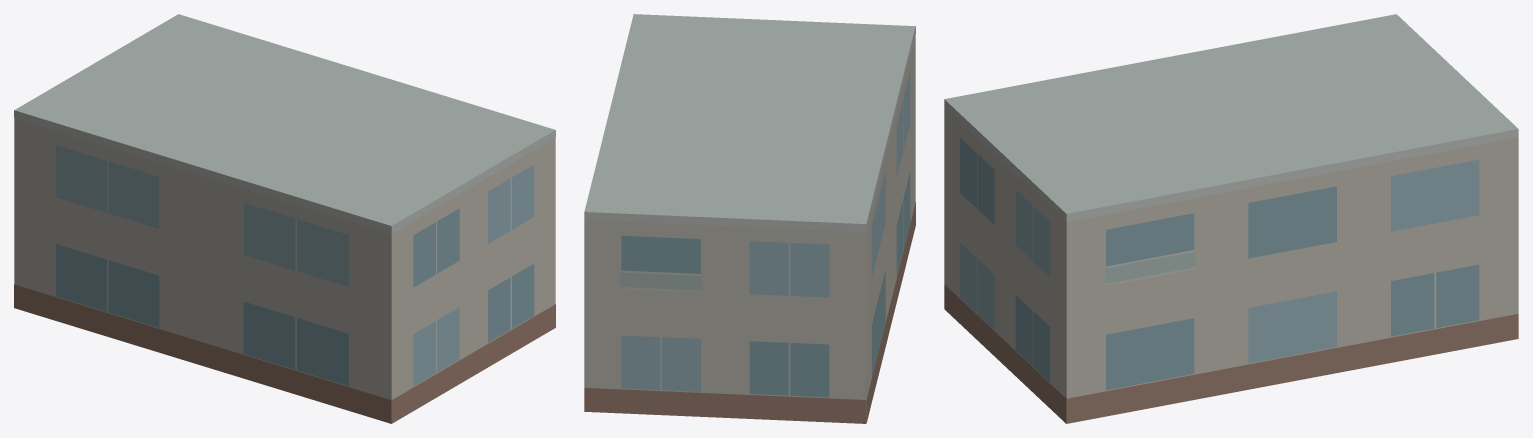
The model's file is survey-upis-32976271.glb.
3 renders of one model, left to right at view 1: azimuth 30°, elevation 25°; view 2: azimuth 150°, elevation 25°; view 3: azimuth 270°, elevation 25°, orthographic. The views are drawn at different scales.
Visible parts, largest first — view 1: survey-upis-32976271.tmp; view 2: survey-upis-32976271.tmp; view 3: survey-upis-32976271.tmp.
Part boxes in pixels (bbox=[...]): survey-upis-32976271.tmp: bbox=[14, 14, 555, 423]; survey-upis-32976271.tmp: bbox=[584, 14, 915, 423]; survey-upis-32976271.tmp: bbox=[944, 14, 1518, 423].
Size of the model in its own units: 12.47 by 6.1 by 15.13.
